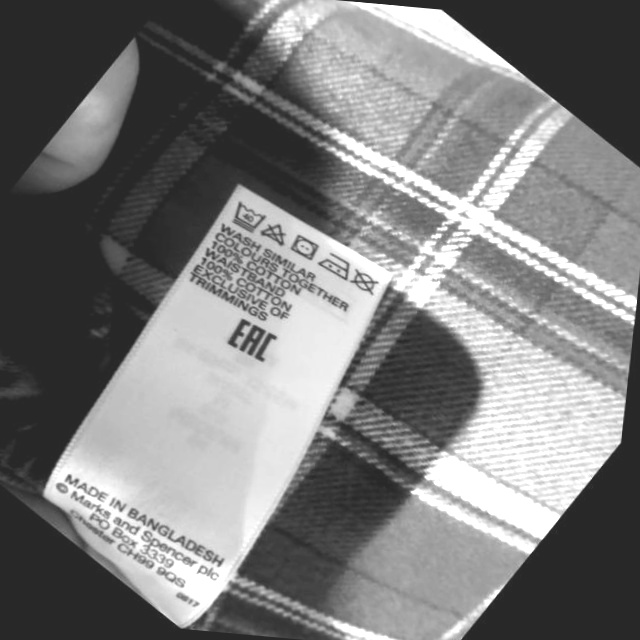40C: (229, 202, 265, 233)
DN_bleach: (260, 221, 287, 247)
DN_dry_clean: (350, 267, 378, 298)
iron_medium: (316, 252, 352, 280)
tumble_dry_medium: (288, 234, 318, 261)
